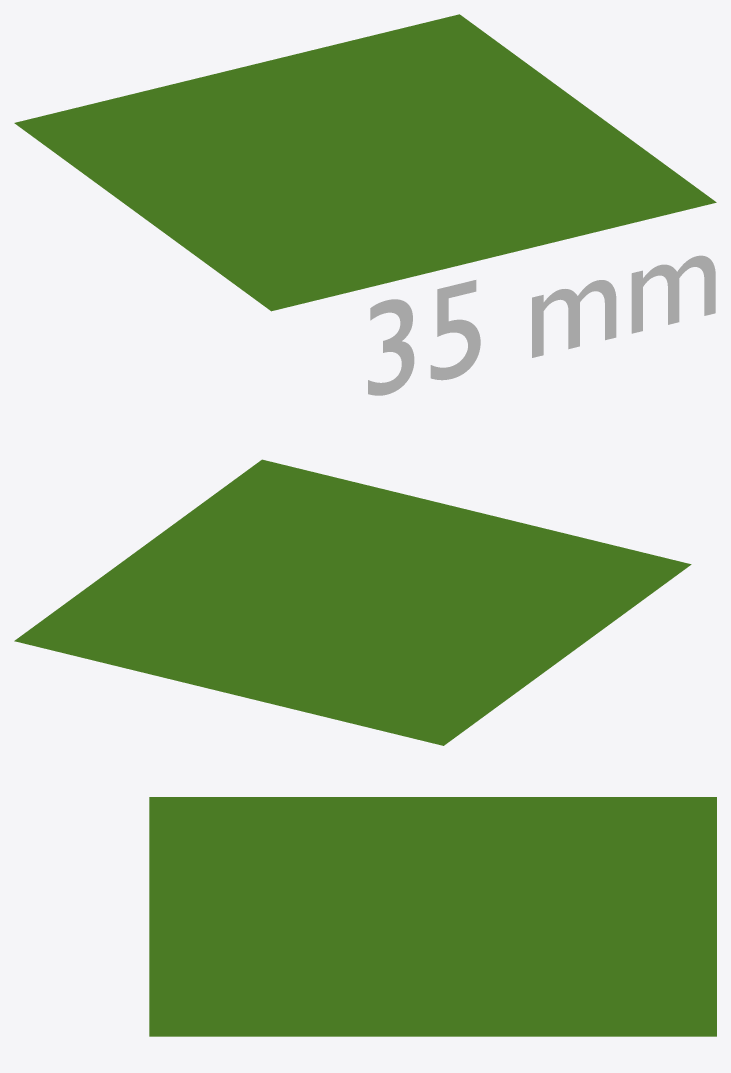
The picture shows the model from 3 angles, top to bottom: view 1: azimuth 30°, elevation 25°; view 2: azimuth 150°, elevation 25°; view 3: azimuth 270°, elevation 25°; orthographic projection. The views are drawn at different scales.
Visible parts, largest first — view 1: Plane.002, Text.002; view 2: Plane.002; view 3: Plane.002.
Part boxes in pixels (bbox=[...]): Plane.002: bbox=[14, 14, 716, 311]; Text.002: bbox=[368, 255, 715, 395]; Plane.002: bbox=[14, 459, 691, 745]; Plane.002: bbox=[149, 797, 716, 1036].
Bounding box in the file's own units: 2 × 0.405 × 2.48.
